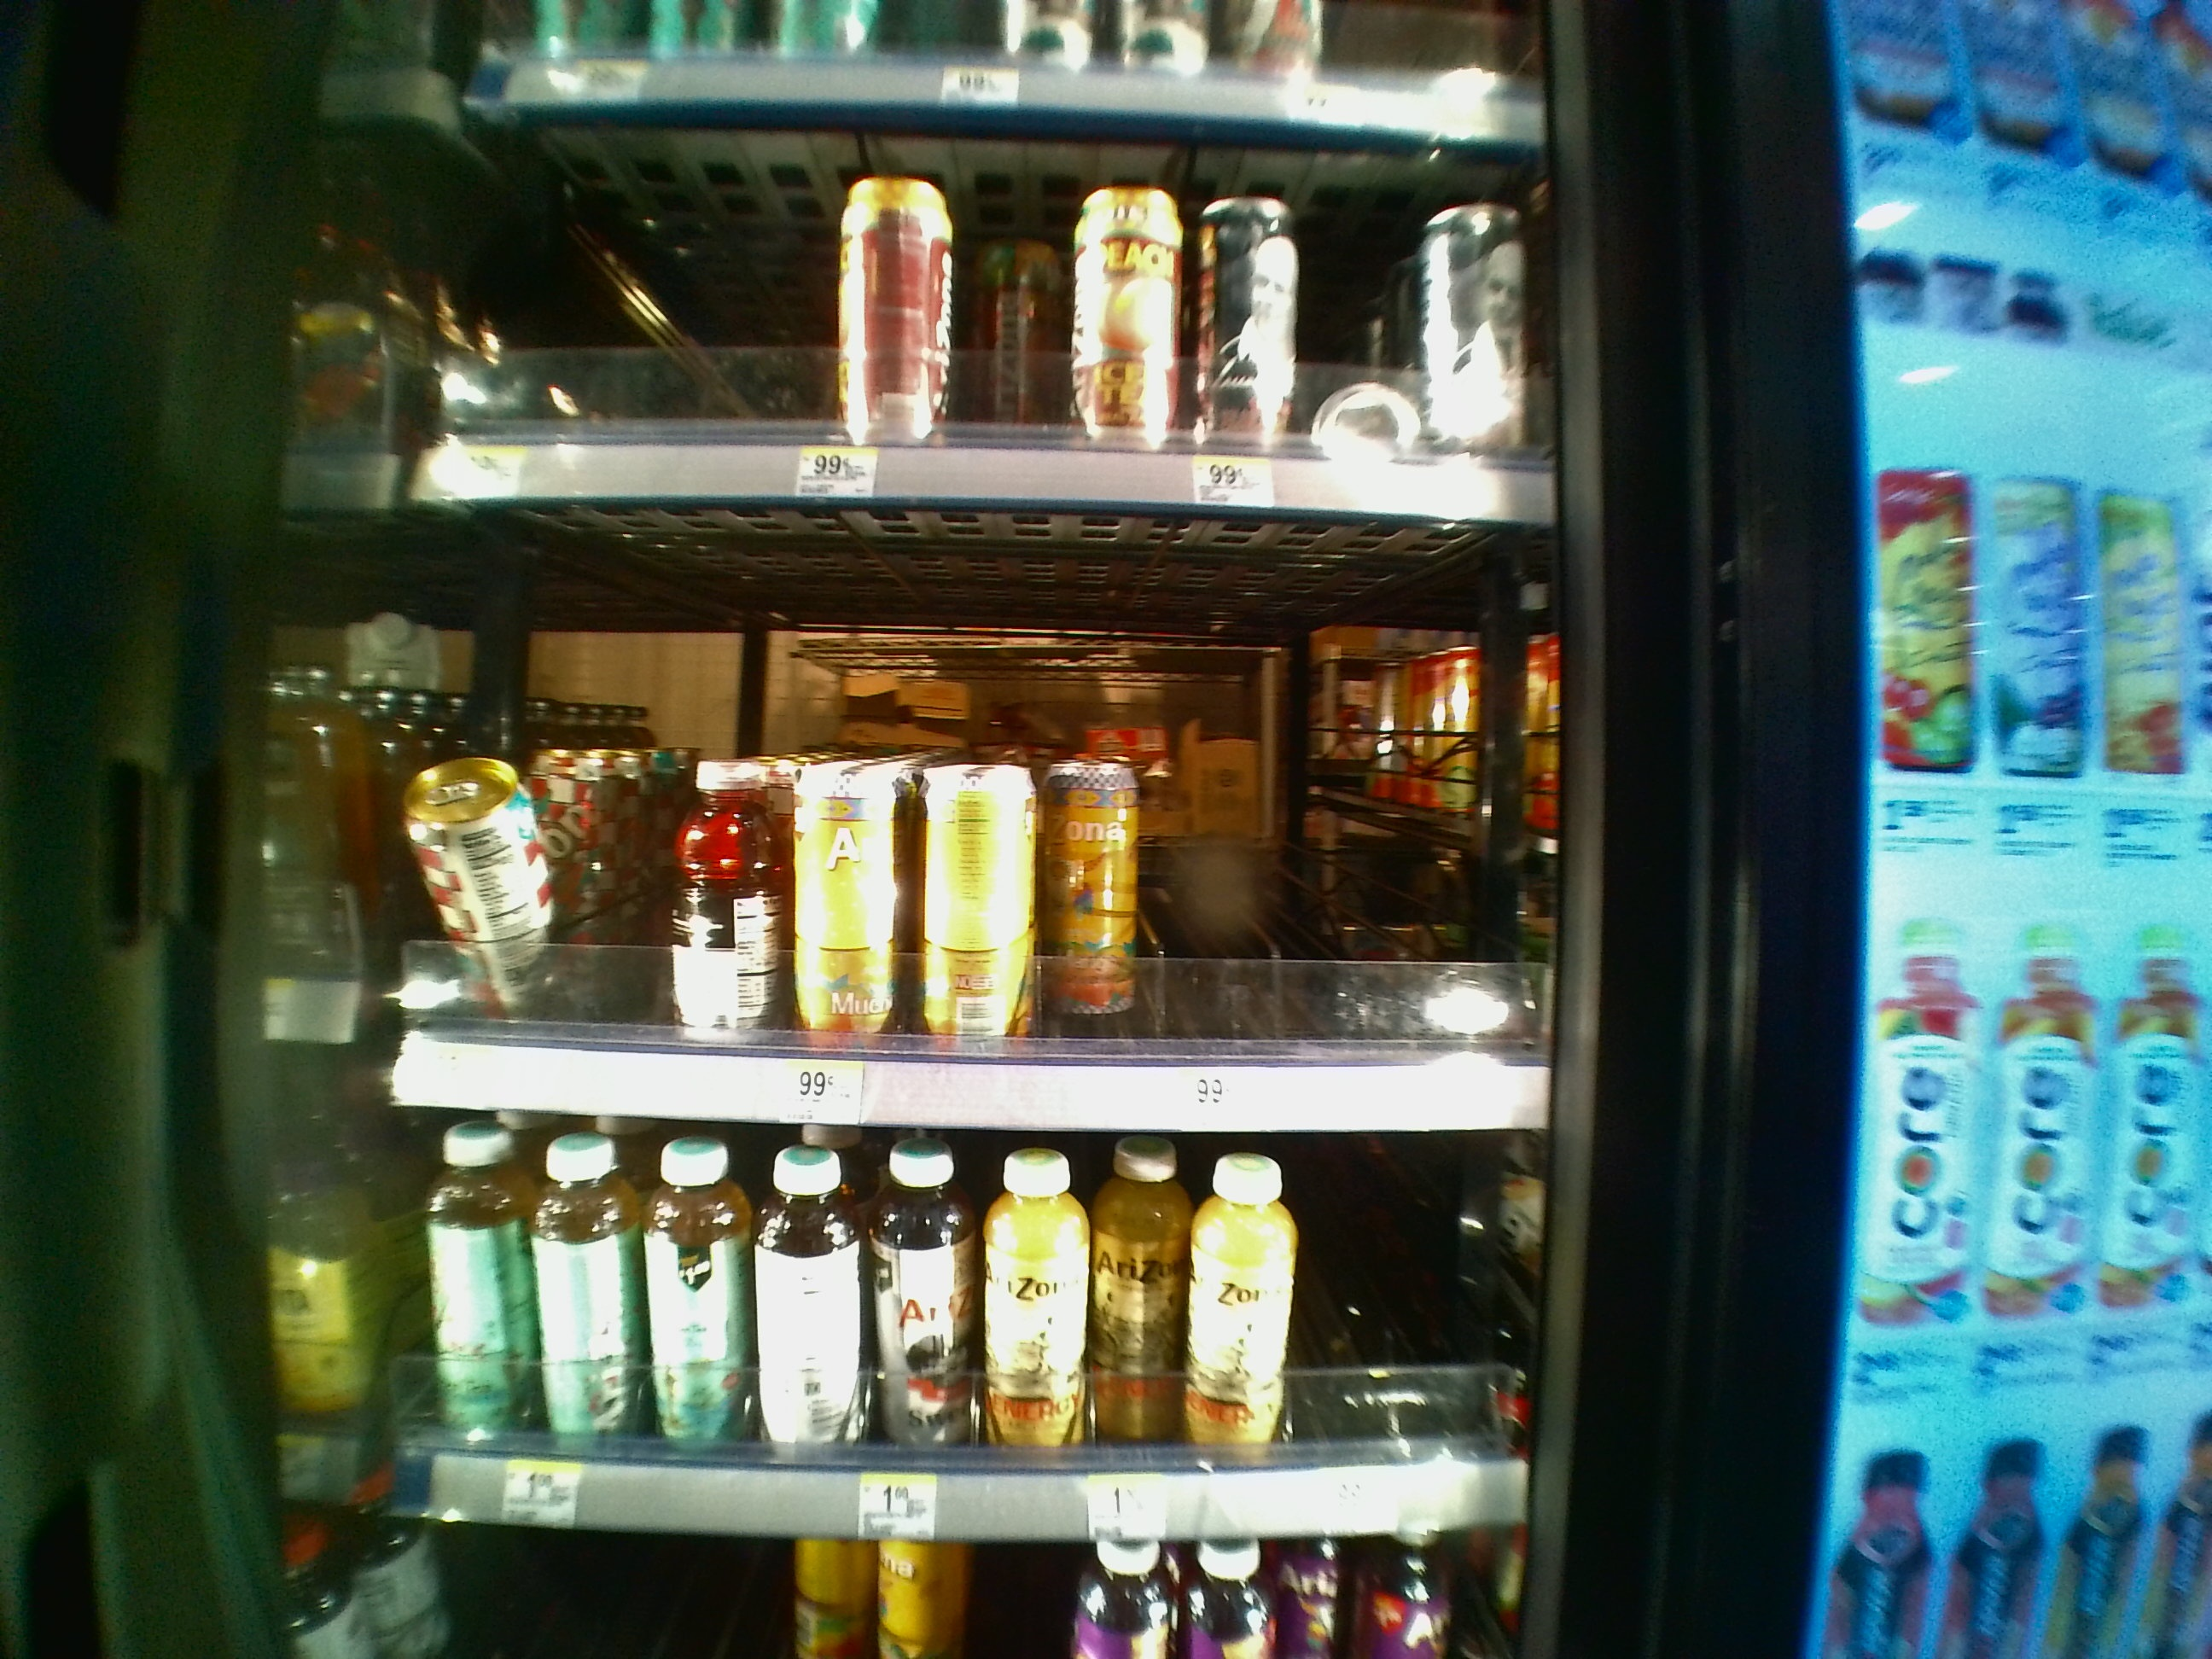shelf: (388, 518, 1554, 1122), (383, 1127, 1529, 1535)
